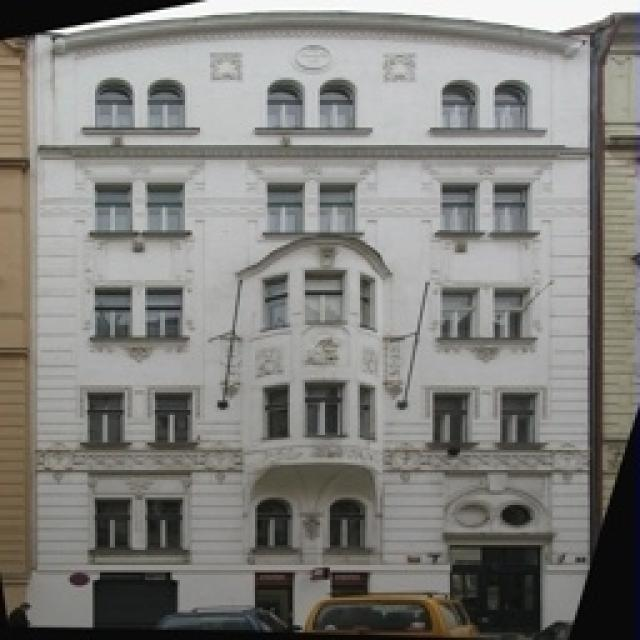building: (30, 0, 602, 640)
